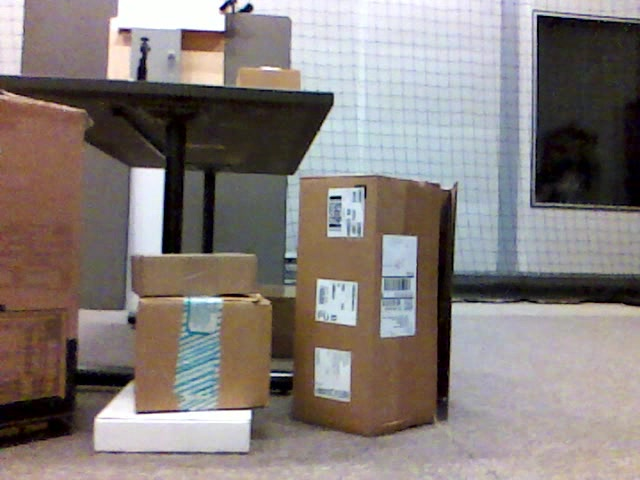box: (295, 177, 457, 435), (1, 90, 78, 451), (133, 297, 273, 410), (130, 250, 257, 299), (235, 68, 302, 90)
